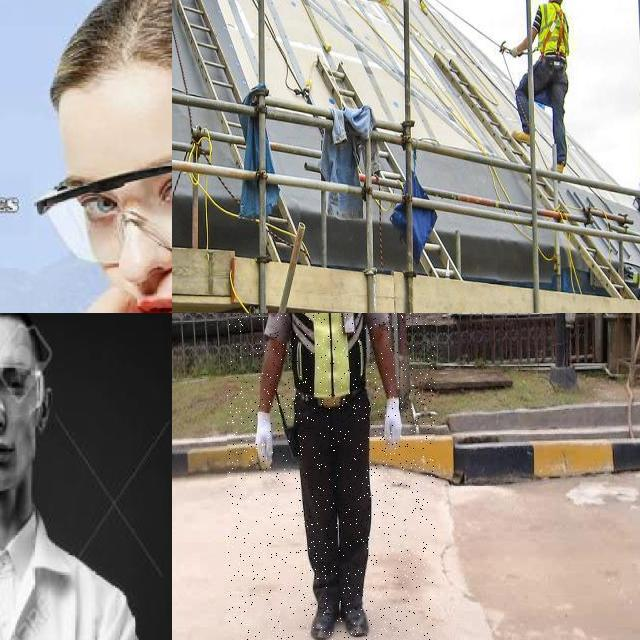boots: (342, 595, 374, 640), (310, 601, 343, 640), (514, 126, 535, 148)
face_nomask: (75, 164, 172, 313), (0, 367, 38, 475)
glasses: (33, 105, 172, 267), (0, 360, 45, 431)
head_nohelmet: (39, 0, 172, 114), (0, 313, 39, 349)
person: (227, 313, 435, 640), (0, 0, 172, 313), (0, 313, 162, 640), (495, 0, 590, 185)
vest: (288, 313, 378, 403), (533, 5, 573, 59)
